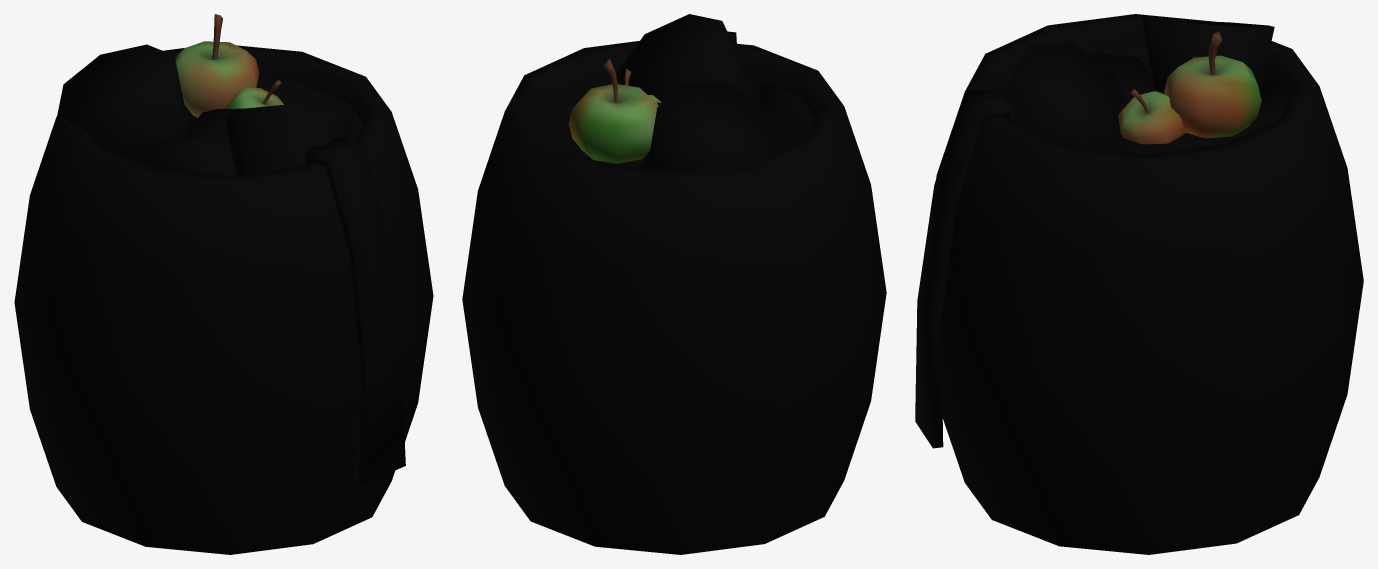
The model's file is barrel_heal_01.fbx.
The picture shows the model from 3 angles, left to right: view 1: azimuth 30°, elevation 25°; view 2: azimuth 150°, elevation 25°; view 3: azimuth 270°, elevation 25°; orthographic projection. The views are drawn at different scales.
Visible parts, largest first — view 1: Cylinder.009; view 2: Cylinder.009; view 3: Cylinder.009.
Boxes of the visible parts, x1,y1,x2,y2 form: Cylinder.009: [14, 14, 433, 554]; Cylinder.009: [462, 14, 886, 554]; Cylinder.009: [915, 14, 1363, 554].
Bounding box in the file's own units: 1.23 × 1.42 × 1.25.
